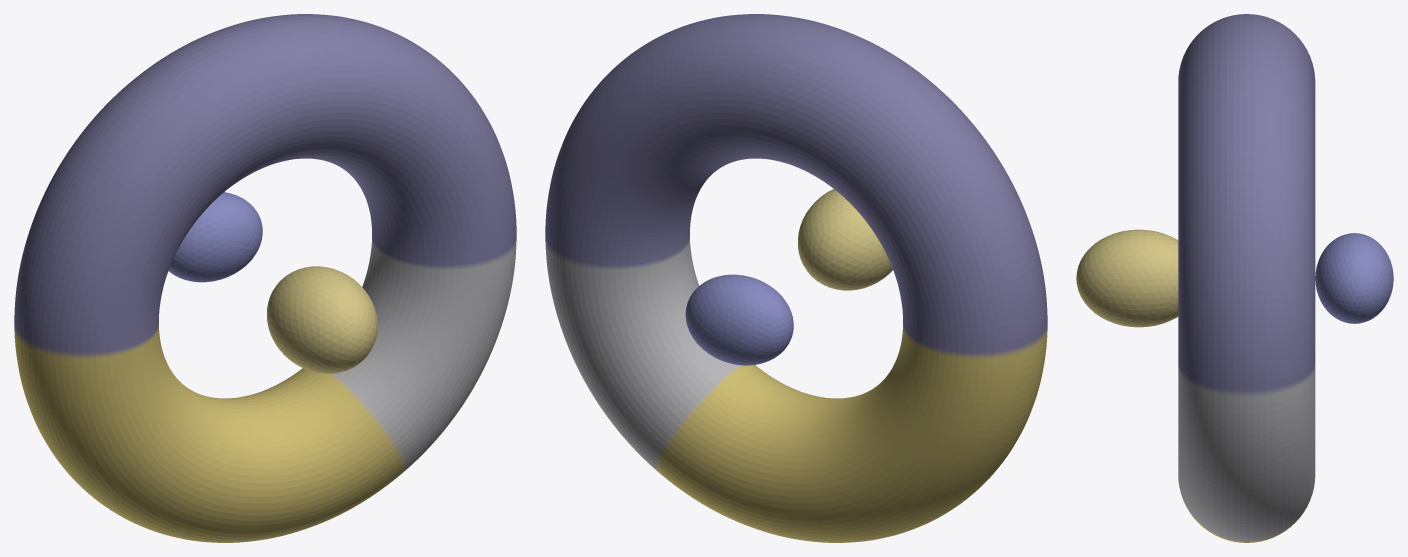
The model's file is shadow_light_resonance_torus_banded.glb.
3 views of the same model, side by side, from view 1: azimuth 30°, elevation 25°; view 2: azimuth 150°, elevation 25°; view 3: azimuth 270°, elevation 25° (orthographic). The views are drawn at different scales.
Visible parts, largest first — view 1: BandedTorus, CoreA, CoreB; view 2: BandedTorus, CoreB, CoreA; view 3: BandedTorus, CoreA, CoreB.
Boxes of the visible parts, x1,y1,x2,y2 form: BandedTorus: (14, 14, 516, 542); CoreA: (267, 266, 377, 373); CoreB: (168, 192, 262, 282); BandedTorus: (545, 14, 1047, 542); CoreB: (685, 274, 793, 365); CoreA: (798, 189, 892, 290); BandedTorus: (1178, 14, 1315, 542); CoreA: (1076, 229, 1178, 327); CoreB: (1315, 233, 1393, 323).
Size of the model in its own units: 2.7 by 2.7 by 1.62.
